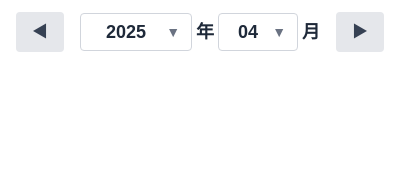
Scenario: MonthNavigator › 空の年入力でフォーカスアウトすると元の年に戻る
Clear the dropdown named "年" at (136, 32), box [80, 13, 192, 51]
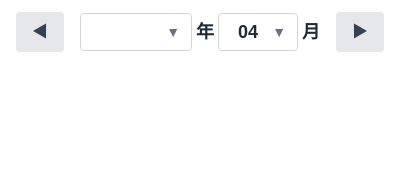
Leave the dropdown named "年", box [80, 13, 192, 51]
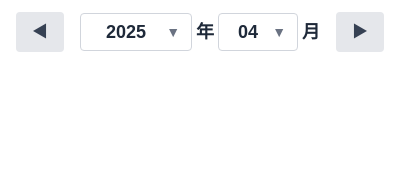
Now the dropdown named "年" holds "2025", box [80, 13, 192, 51]
